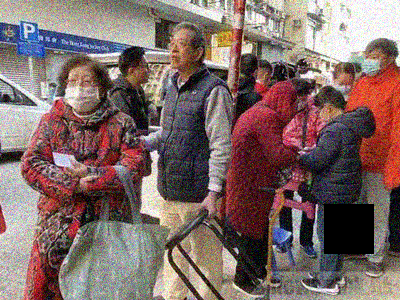with_mask: (65, 71, 100, 113), (363, 52, 386, 75), (336, 78, 357, 95)
without_mask: (168, 35, 194, 68), (134, 61, 153, 88)
